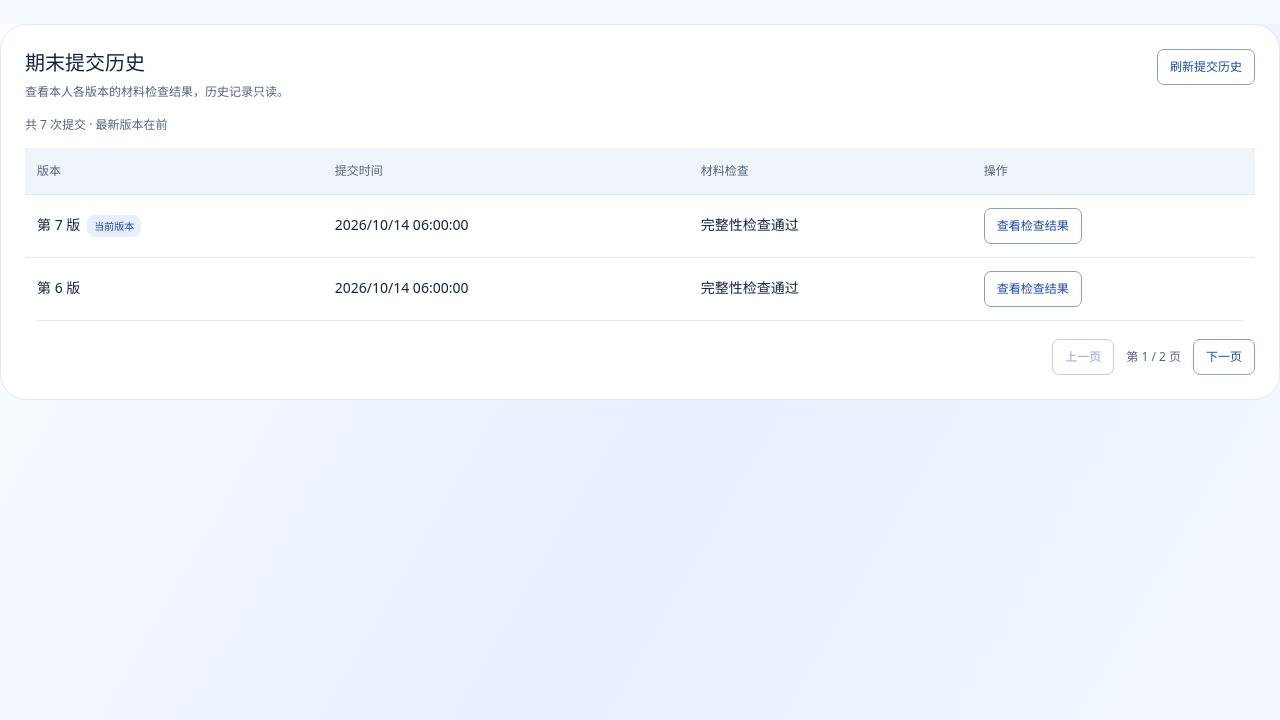
Test: 快速切换详情时旧响应不覆盖最后选择，提示按文本展示
Click the button with aria-label "查看第 7 版材料检查".
click(1033, 226)  # box x1=984 y1=208 x2=1082 y2=244
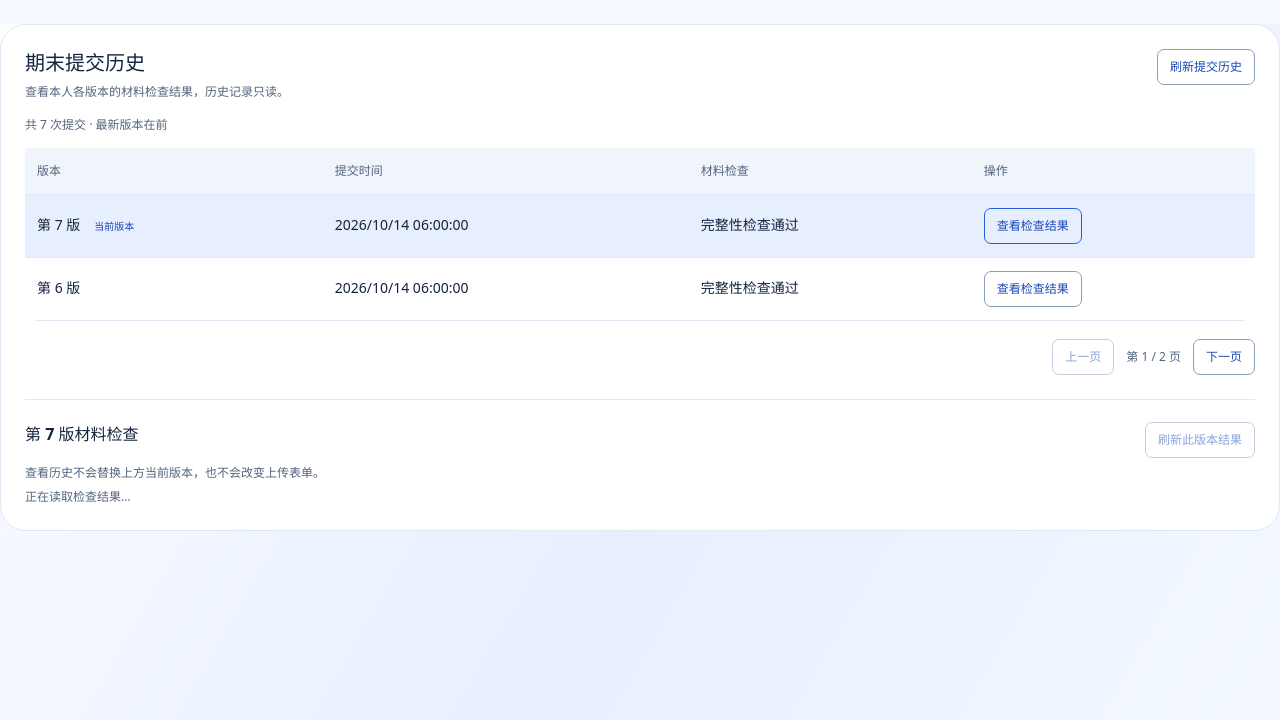
Click the button with aria-label "查看第 6 版材料检查".
click(1033, 289)  # box x1=984 y1=271 x2=1082 y2=307
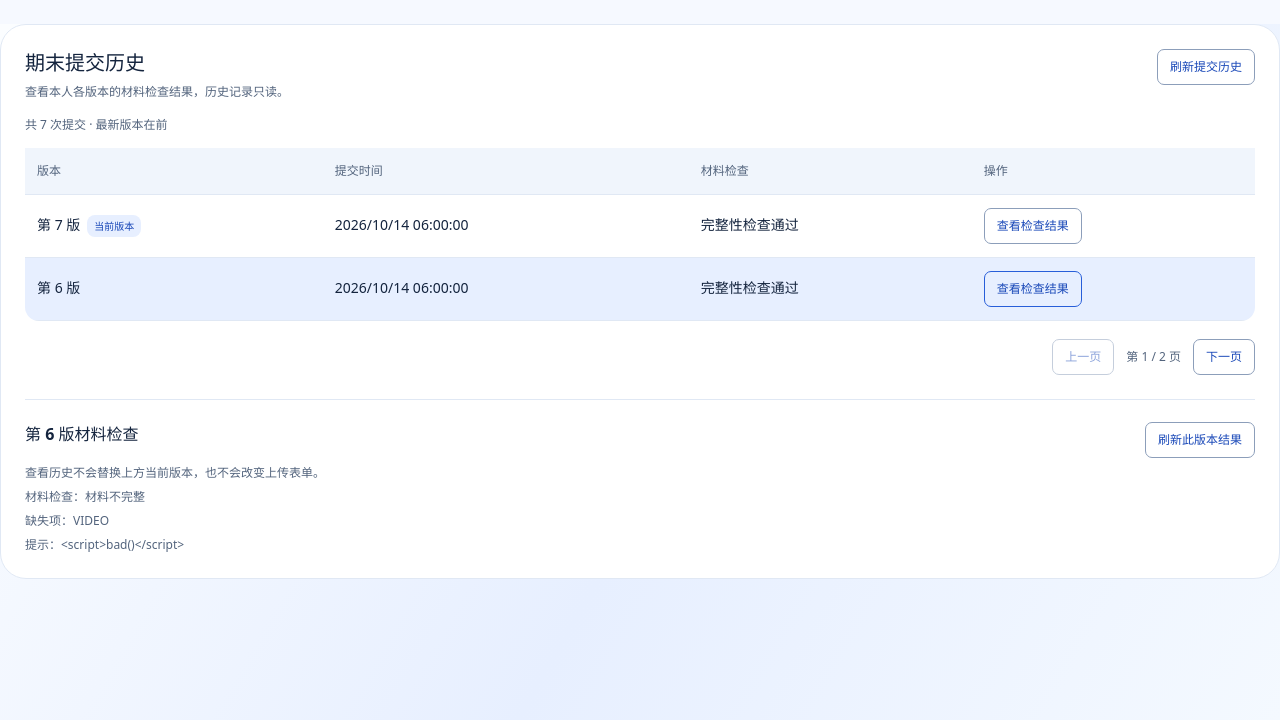
Result: the element with class "history-detail" shows "第 6 版材料检查" at x1=25 y1=423 x2=138 y2=445
Result: the element with class "history-detail" shows "缺失项：VIDEO" at x1=25 y1=512 x2=109 y2=529
